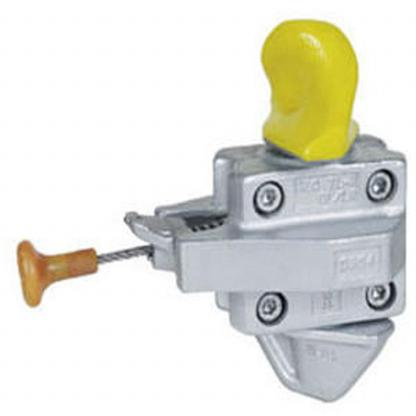Twistlock: (17, 20, 408, 405)
